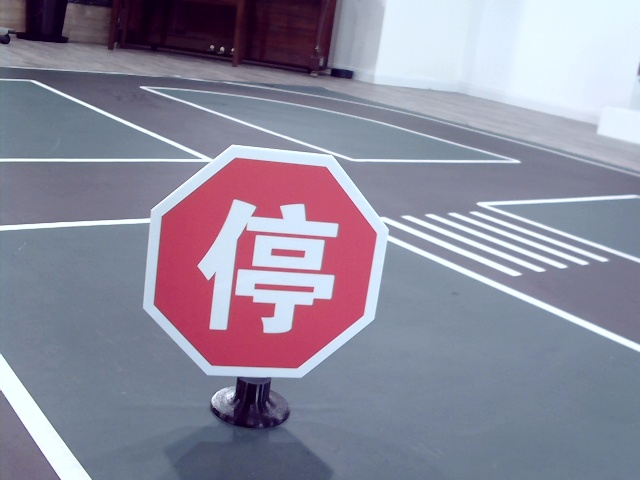stop: (202, 196, 332, 334)
